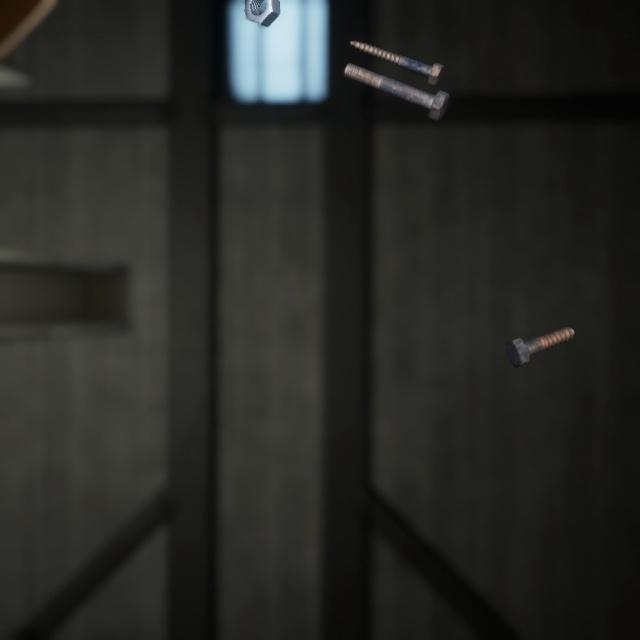bolt: (339, 48, 453, 114), (345, 27, 448, 80), (502, 304, 579, 353)
nut: (240, 0, 284, 23)
